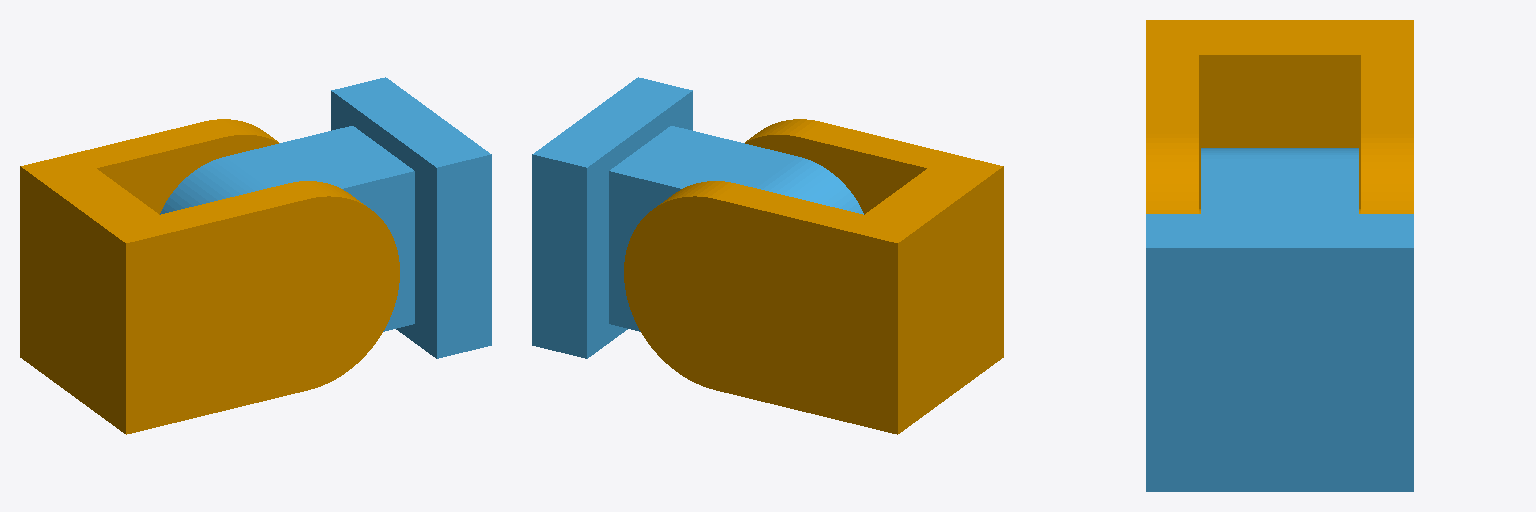
URDF robot description (revolute_yaw_j):
<?xml version="1.0" ?>
<robot name="revolute_yaw_j">

<link name="revolute_yaw_j_base_link">
  <inertial>
    <origin xyz="0.0119561123917724 0.0 -1.3968471162952193e-18" rpy="0 0 0"/>
    <mass value="0.04991384177488204"/>
    <inertia ixx="4e-06" iyy="5e-06" izz="6e-06" ixy="-0.0" iyz="0.0" ixz="0.0"/>
  </inertial>
  <visual>
    <origin xyz="0 0 0" rpy="0 0 0"/>
    <geometry>
      <mesh filename="meshes/revolute_yaw_j_base_link.stl" scale="0.001 0.001 0.001"/>
    </geometry>
    <material name="silver"/>
  </visual>
  <collision>
    <origin xyz="0 0 0" rpy="0 0 0"/>
    <geometry>
      <mesh filename="meshes/revolute_yaw_j_base_link.stl" scale="0.001 0.001 0.001"/>
    </geometry>
  </collision>
</link>

<link name="revolute_yaw_j_driven_1">
  <inertial>
    <origin xyz="0.00957079383950224 3.0757571452879026e-18 1.5378785726439513e-18" rpy="0 0 0"/>
    <mass value="0.045336483118164767"/>
    <inertia ixx="2e-06" iyy="4e-06" izz="4e-06" ixy="0.0" iyz="-0.0" ixz="-0.0"/>
  </inertial>
  <visual>
    <origin xyz="-0.02 -0.0 -0.0" rpy="0 0 0"/>
    <geometry>
      <mesh filename="meshes/revolute_yaw_j_driven_1.stl" scale="0.001 0.001 0.001"/>
    </geometry>
    <material name="silver"/>
  </visual>
  <collision>
    <origin xyz="-0.02 -0.0 -0.0" rpy="0 0 0"/>
    <geometry>
      <mesh filename="meshes/revolute_yaw_j_driven_1.stl" scale="0.001 0.001 0.001"/>
    </geometry>
  </collision>
</link>

<link name="revolute_yaw_j_APC_1">
  <inertial>
    <origin xyz="0.0 0.0 0.0" rpy="0 0 0"/>
    <mass value="3.288200310757317e-05"/>
    <inertia ixx="0.0" iyy="0.0" izz="0.0" ixy="-0.0" iyz="-0.0" ixz="0.0"/>
  </inertial>
  
  
</link>

<link name="revolute_yaw_j_APP_1">
  <inertial>
    <origin xyz="-1.387750568652916e-18 0.0 0.0" rpy="0 0 0"/>
    <mass value="3.288200310757317e-05"/>
    <inertia ixx="0.0" iyy="0.0" izz="0.0" ixy="-0.0" iyz="-0.0" ixz="0.0"/>
  </inertial>
  
  
</link>

<joint name="Revolute 1" type="revolute">
  <origin xyz="0.02 0.0 0.0" rpy="0 0 0"/>
  <parent link="revolute_yaw_j_base_link"/>
  <child link="revolute_yaw_j_driven_1"/>
  <axis xyz="0.0 1.0 0.0"/>
  <limit upper="1.570796" lower="-1.570796" effort="100" velocity="100"/>
</joint>

<joint name="Rigid 2" type="fixed">
  <origin xyz="0.02 0.0 0.0" rpy="0 0 0"/>
  <parent link="revolute_yaw_j_driven_1"/>
  <child link="revolute_yaw_j_APC_1"/>
</joint>

<joint name="Rigid 3" type="fixed">
  <origin xyz="0.0 0.0 0.0" rpy="0 0 0"/>
  <parent link="revolute_yaw_j_base_link"/>
  <child link="revolute_yaw_j_APP_1"/>
</joint>

</robot>

--- Render facts (derived) ---
3 views of the same robot in one strip: view 1: azimuth 30°, elevation 25°; view 2: azimuth 150°, elevation 25°; view 3: azimuth 270°, elevation 25° (orthographic).
Model revolute_yaw_j with 4 links and 3 joints (1 revolute, 2 fixed), rooted at revolute_yaw_j_base_link, posed all joints at 0.
Visible links, largest first — view 1: revolute_yaw_j_base_link, revolute_yaw_j_driven_1; view 2: revolute_yaw_j_base_link, revolute_yaw_j_driven_1; view 3: revolute_yaw_j_driven_1, revolute_yaw_j_base_link.
Link boxes in pixels (x1,y1,x2,y2): revolute_yaw_j_base_link: [20, 119, 399, 434]; revolute_yaw_j_driven_1: [160, 77, 491, 358]; revolute_yaw_j_base_link: [624, 119, 1003, 434]; revolute_yaw_j_driven_1: [532, 77, 863, 358]; revolute_yaw_j_driven_1: [1146, 148, 1413, 491]; revolute_yaw_j_base_link: [1146, 20, 1413, 213].
Size in the robot's own frame: 0.04 by 0.02 by 0.02 metres.
Meshes: 2 distinct files referenced, 2 mesh visuals loaded (2 binary STL).